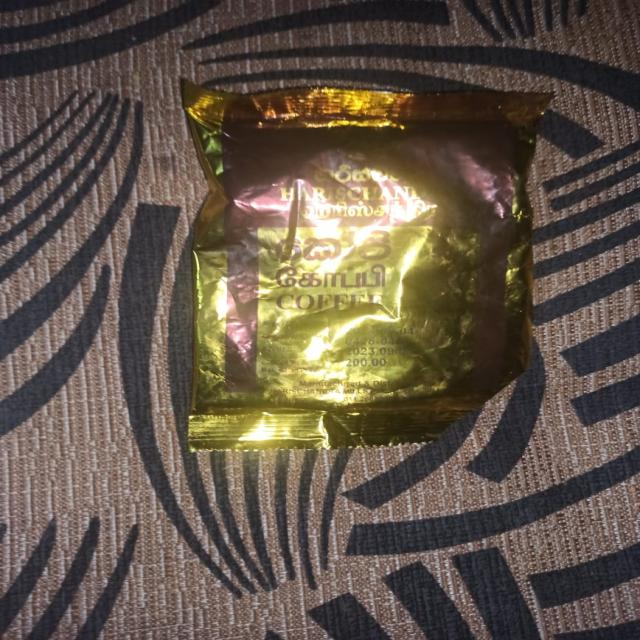Harischandra Coffee: (169, 87, 536, 461)
